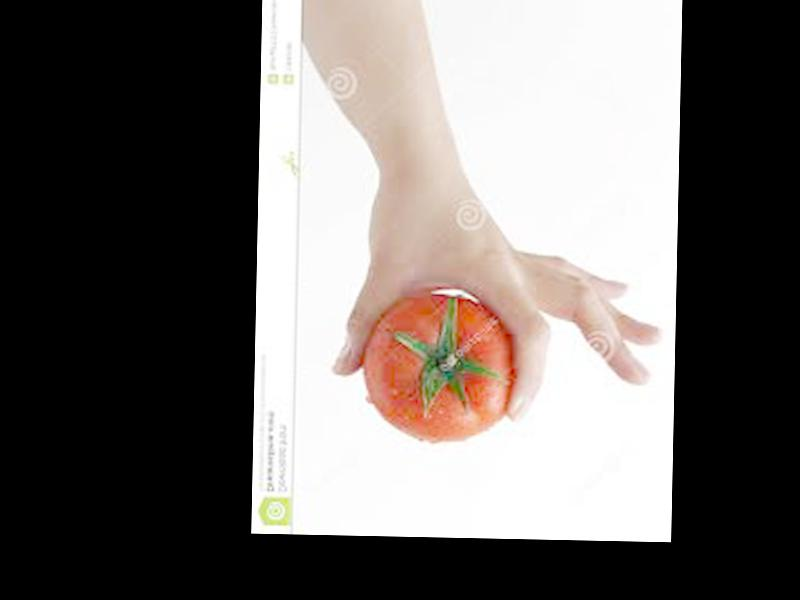Tomato: (362, 291, 518, 444)
